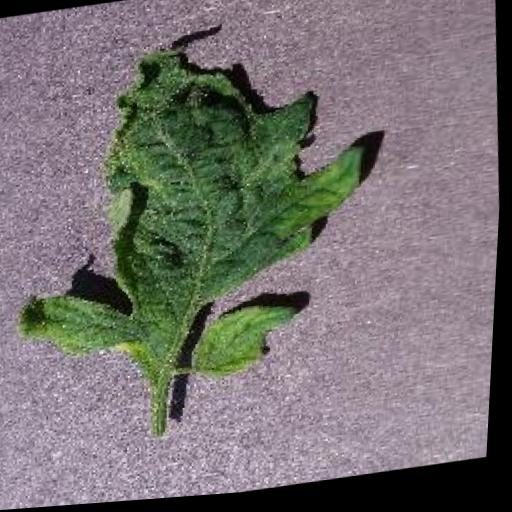Mosaic Virus: (0, 23, 390, 409)
